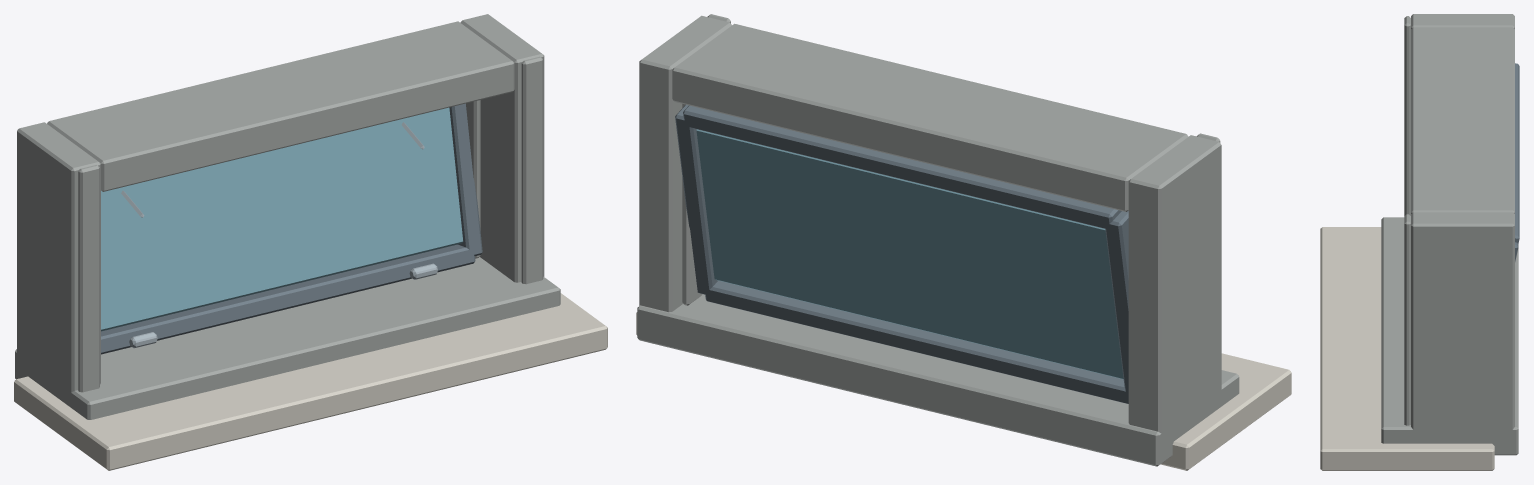
Rendered from b12_basement_hopper_window.glb.
The picture shows the model from 3 angles, left to right: view 1: azimuth 30°, elevation 25°; view 2: azimuth 150°, elevation 25°; view 3: azimuth 270°, elevation 25°; orthographic projection. The views are drawn at different scales.
Visible parts, largest first — view 1: b12_basement_hopper_window; view 2: b12_basement_hopper_window; view 3: b12_basement_hopper_window.
Part boxes in pixels (x1,y1,x2,y2): b12_basement_hopper_window: (14,14,607,470); b12_basement_hopper_window: (636,14,1291,470); b12_basement_hopper_window: (1320,14,1519,470).
Size of the model in its own units: 1.43 by 0.7175 by 0.538.
